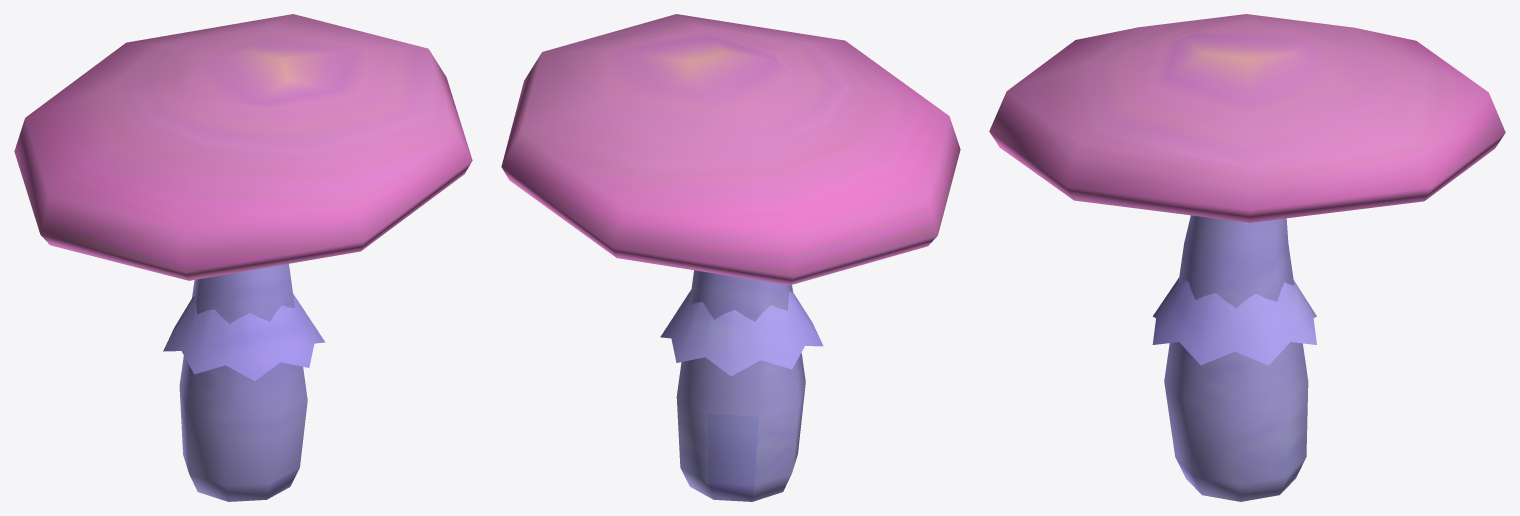
Rendered from media_seta06.fbx.
3 views of the same model, side by side, from view 1: azimuth 30°, elevation 25°; view 2: azimuth 150°, elevation 25°; view 3: azimuth 270°, elevation 25° (orthographic). The views are drawn at different scales.
Parts seen in each view (by area): view 1: SetaM06; view 2: SetaM06; view 3: SetaM06.
Boxes of the visible parts, x1=… form: SetaM06: x1=14, y1=14, x2=472, y2=501; SetaM06: x1=501, y1=14, x2=960, y2=501; SetaM06: x1=989, y1=14, x2=1505, y2=501.
Bounding box in the file's own units: 4042 × 3939 × 4076.
